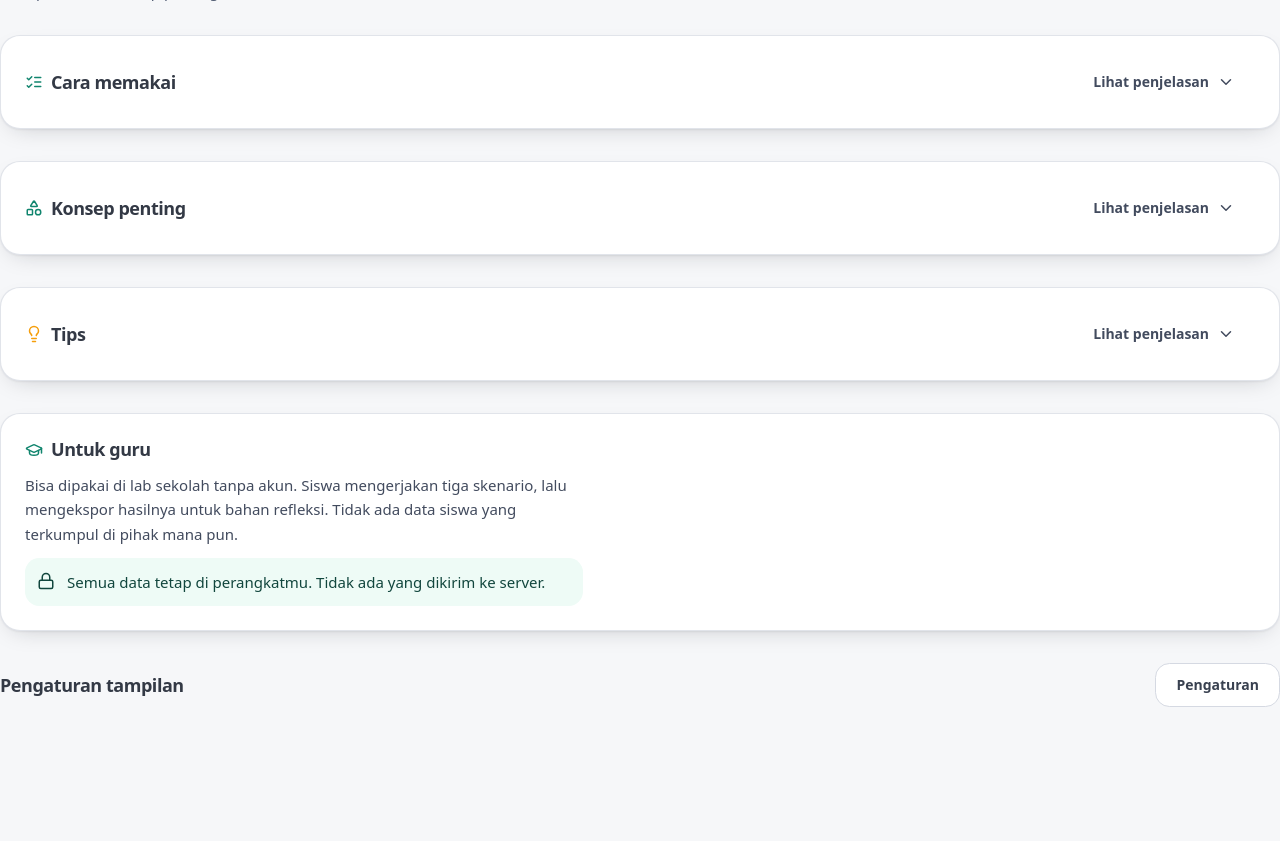
Test: GuidePage — pengaturan tampilan › meminta konfirmasi sebelum menghapus data lokal
Click the button "Pengaturan" at (1218, 685), box top-left (1155, 663), bottom-right (1279, 707)
(page scrolled)
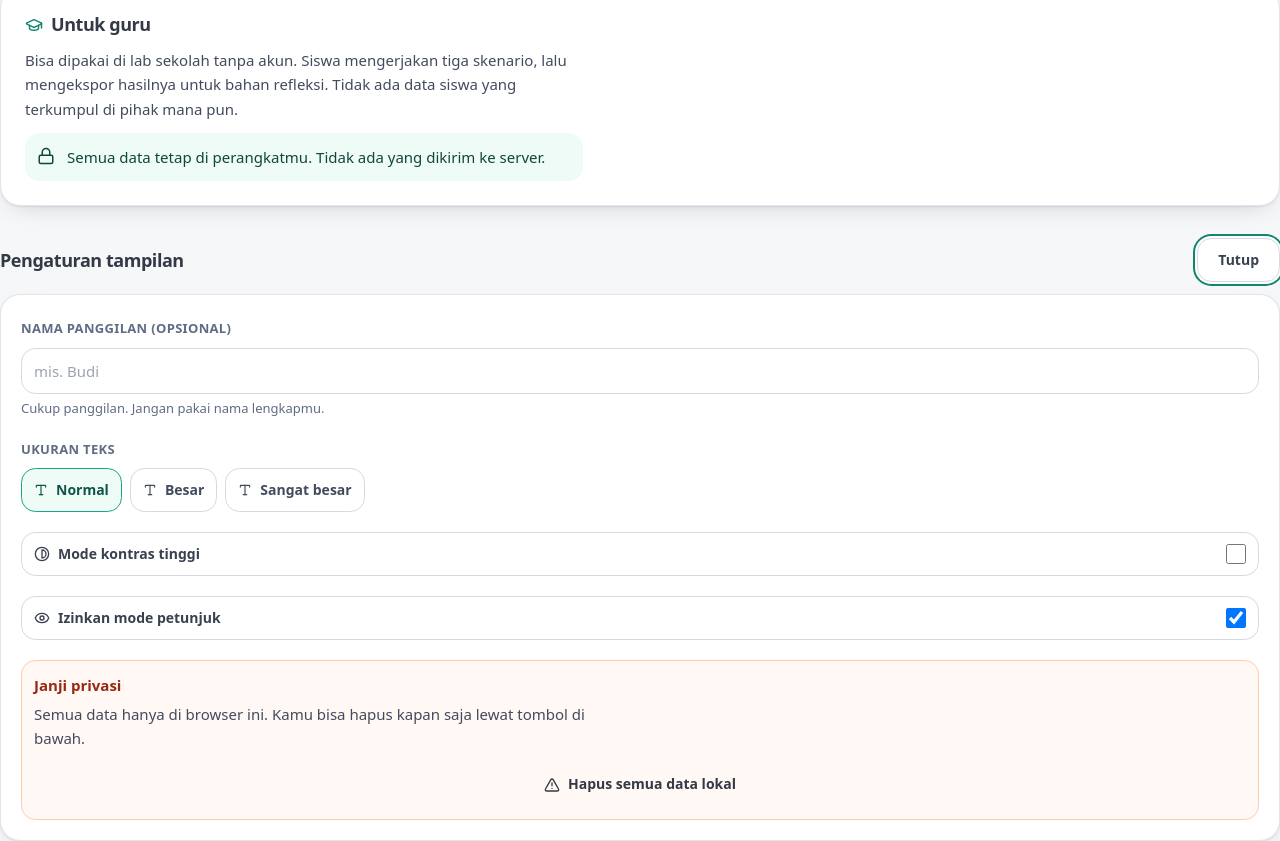
Click the button "Hapus semua data lokal" at (640, 784), box top-left (34, 762), bottom-right (1246, 806)
(page scrolled)
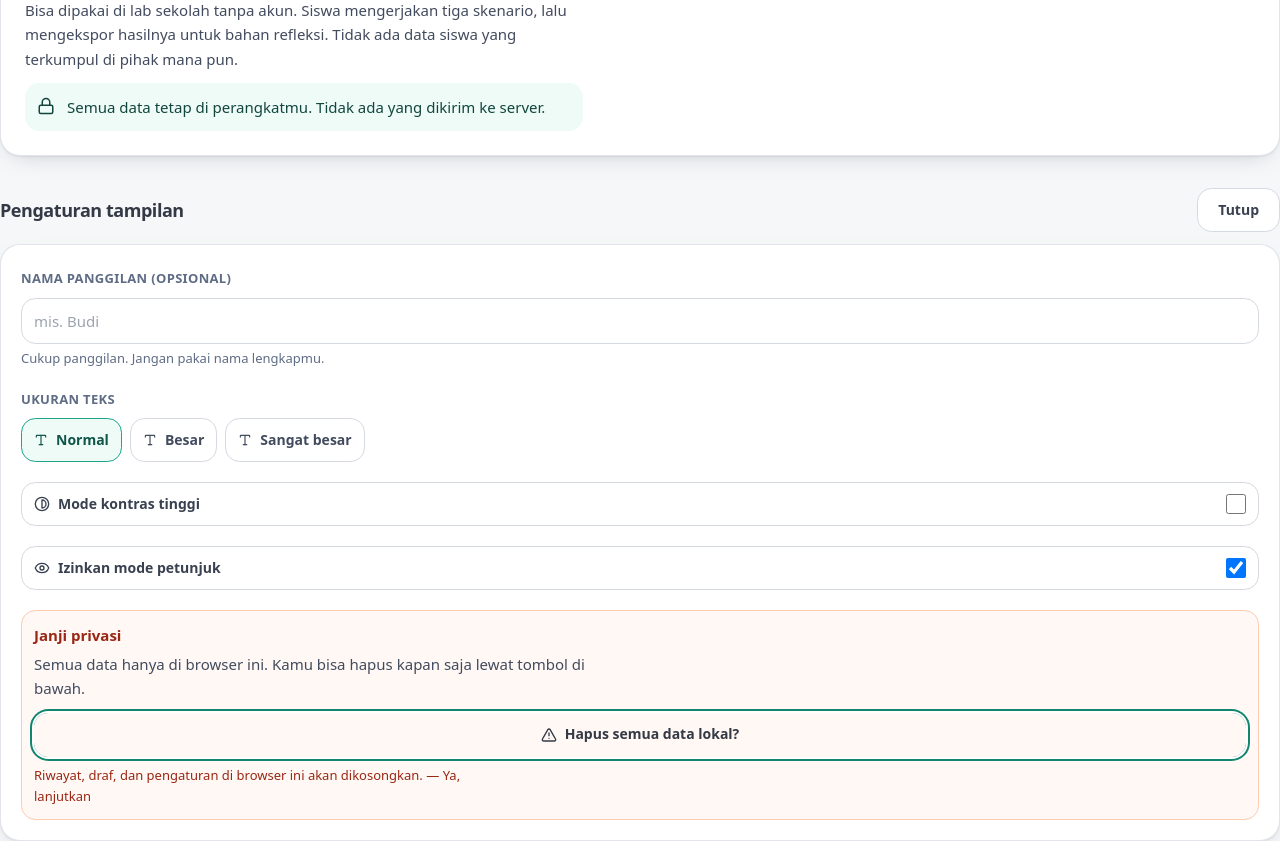
expect the button "Hapus semua data lokal?" is shown: met, box top-left (34, 712), bottom-right (1246, 756)
expect the text "Riwayat, draf, dan pengaturan di browser ini akan dikosongkan. — Ya, lanjutkan" is shown: met, box top-left (34, 764), bottom-right (517, 807)
